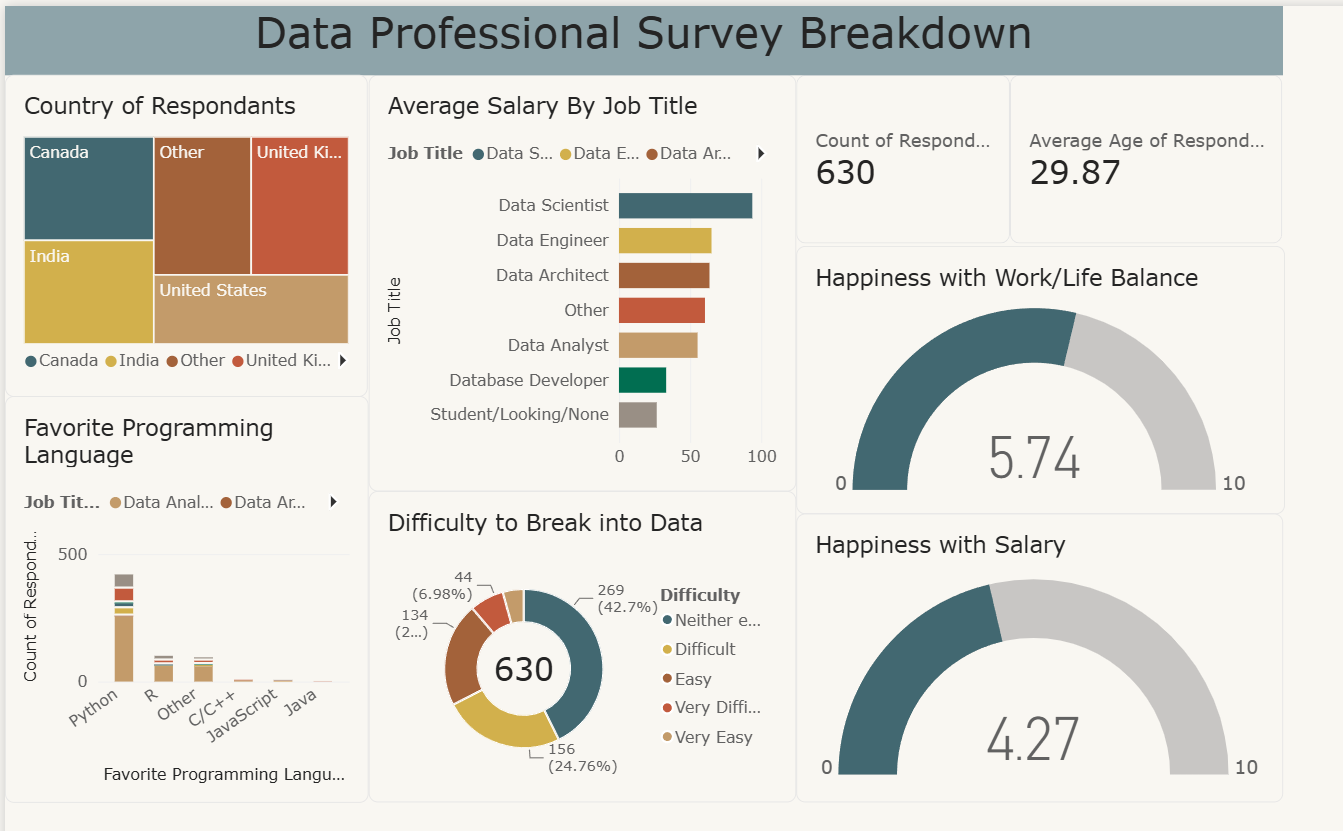

This screenshot's page, from the dashboard's own definition file:
{"tool":"powerbi","page":{"name":"Page 1","canvas":[1920,1080],"ordinal":0},"visuals":[{"type":"barChart","title":"Average Salary By Job Title","fields":{"Category":["Data Professional Survey.Q1 - Which Title Best Fits your Current Role?.1"],"Series":["Data Professional Survey.Q1 - Which Title Best Fits your Current Role?.1"],"Y":["Avg(Data Professional Survey.Average Salary)"]},"box":[322.9,61.4,380,370],"z":0},{"type":"cardVisual","fields":{"Data":["Count(Data Professional Survey.Unique ID)"]},"box":[702.9,61.4,190.4,150.7],"z":1000},{"type":"cardVisual","fields":{"Data":["Avg(Data Professional Survey.Q10 - Current Age)"]},"box":[892.9,61.4,242.5,150.7],"z":2000},{"type":"textbox","box":[0,0,1135.7,61.4],"z":3000},{"type":"columnChart","title":"Favorite Programming Language","fields":{"Category":["Data Professional Survey.Q5 - Favorite Programming Language.1"],"Series":["Data Professional Survey.Q1 - Which Title Best Fits your Current Role?.1"],"Y":["CountNonNull(Data Professional Survey.Unique ID)"]},"box":[0,346.6,323.3,361.6],"z":4000},{"type":"donutChart","title":"Difficulty to Break into Data","fields":{"Category":["Data Professional Survey.Q7 - How difficult was it for you to break into Data?"],"Y":["CountNonNull(Data Professional Survey.Q7 - How difficult was it for you to break into Data?)"]},"box":[322.9,431.4,380,277.1],"z":5000},{"type":"gauge","title":"Happiness with Work/Life Balance","fields":{"MaxValue":["Max(Data Professional Survey.Q6 - How Happy are you in your Current Position with the following? (Work/Life Balance))"],"MinValue":["Min(Data Professional Survey.Q6 - How Happy are you in your Current Position with the following? (Work/Life Balance))"],"Y":["Avg(Data Professional Survey.Q6 - How Happy are you in your Current Position with the following? (Work/Life Balance))"]},"box":[702.9,212.9,434.3,238.6],"z":5001},{"type":"gauge","title":"Happiness with Salary","fields":{"MaxValue":["Max(Data Professional Survey.Q6 - How Happy are you in your Current Position with the following? (Salary))"],"MinValue":["Min(Data Professional Survey.Q6 - How Happy are you in your Current Position with the following? (Salary))"],"Y":["Avg(Data Professional Survey.Q6 - How Happy are you in your Current Position with the following? (Salary))"]},"box":[702.9,451.4,432.9,257.1],"z":5002},{"type":"treemap","title":"Country of Respondants","fields":{"Group":["Data Professional Survey.Q11 - Which Country do you live in?.1"],"Values":["Count(Data Professional Survey.Q11 - Which Country do you live in?.1)"]},"box":[0,61,322.7,286],"z":5003}]}

Visuals, with their boxes in screenshot pixels (x1, y1, x2, y2):
"Average Salary By Job Title" barChart: bbox=(252, 72, 524, 337)
cardVisual - Count(Data Professional Survey.Unique ID): bbox=(524, 72, 660, 180)
cardVisual - Avg(Data Professional Survey.Q10 - Current Age): bbox=(660, 72, 833, 180)
textbox: bbox=(21, 28, 833, 72)
"Favorite Programming Language" columnChart: bbox=(21, 276, 252, 534)
"Difficulty to Break into Data" donutChart: bbox=(252, 337, 524, 535)
"Happiness with Work/Life Balance" gauge: bbox=(524, 180, 834, 351)
"Happiness with Salary" gauge: bbox=(524, 351, 833, 535)
"Country of Respondants" treemap: bbox=(21, 72, 252, 276)
